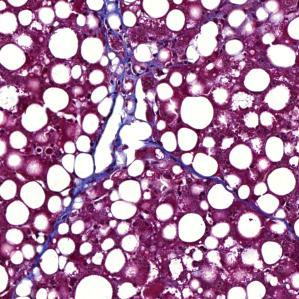fibrosis: (109, 42, 143, 108)
